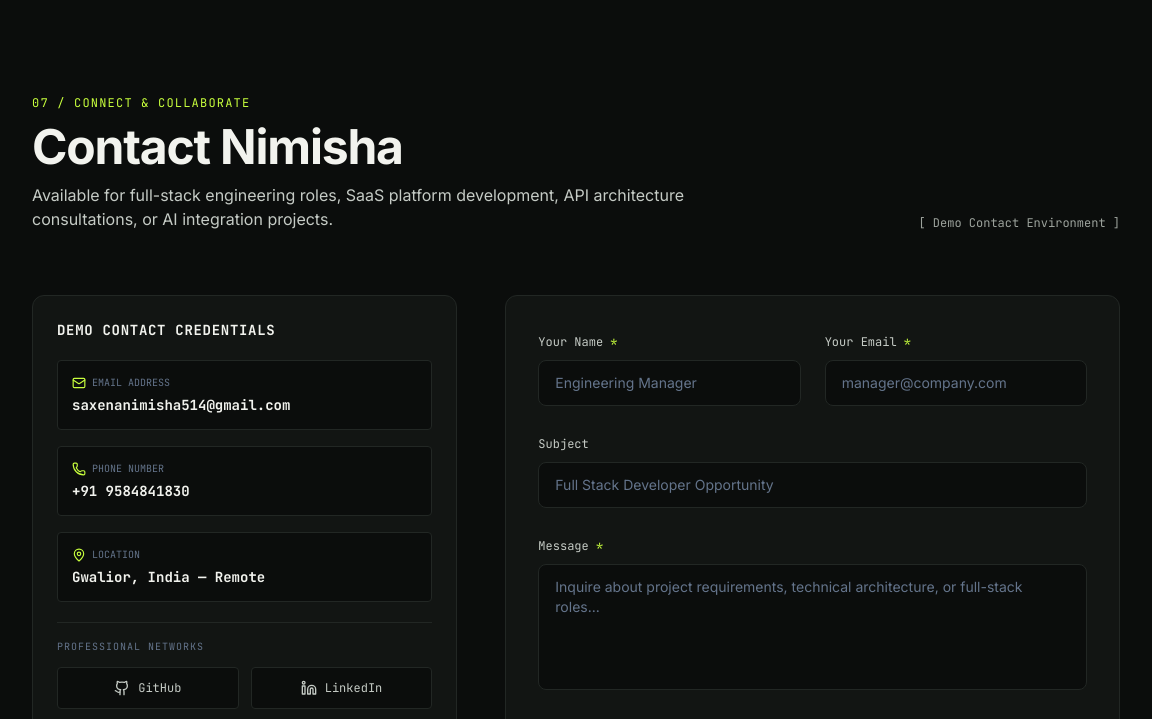
Test case: ContactSection Component › renders contact form and submits message state
The image size is (1152, 719).
Step 1. Type "Recruiter" into the field labelled "Your Name *" → (669, 383), box [538,360,801,406]
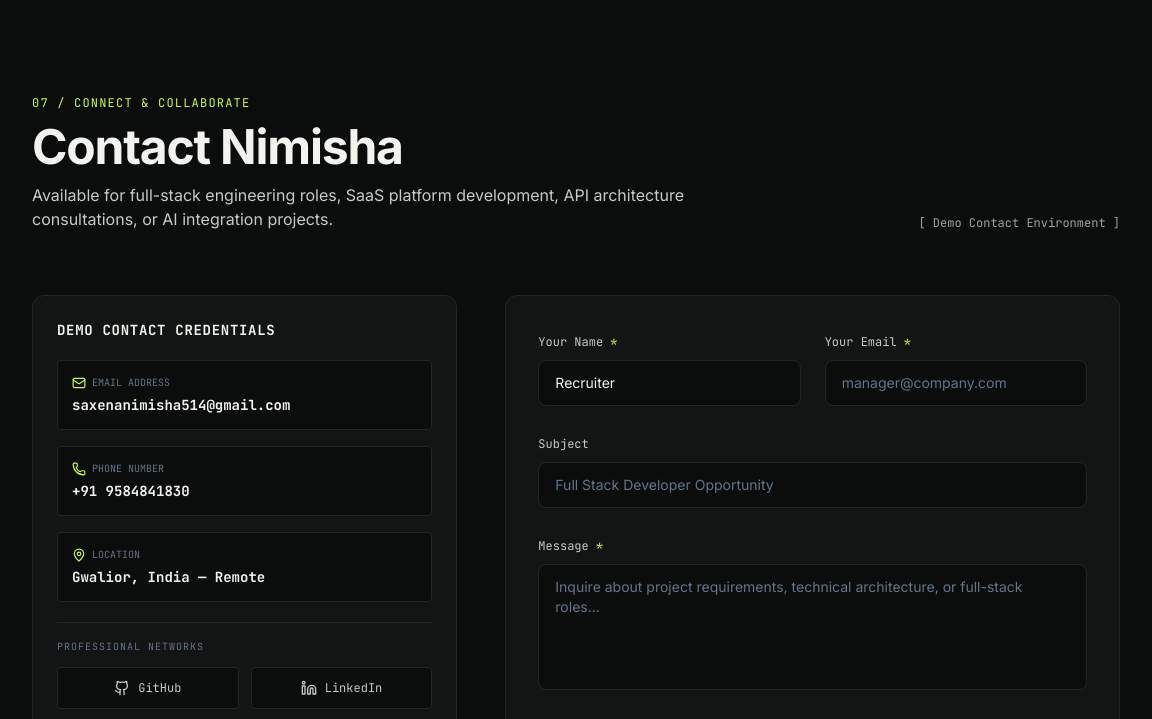
Step 2. Type "recruiter@example.com" into the field labelled "Your Email *" → (956, 383), box [825,360,1087,406]
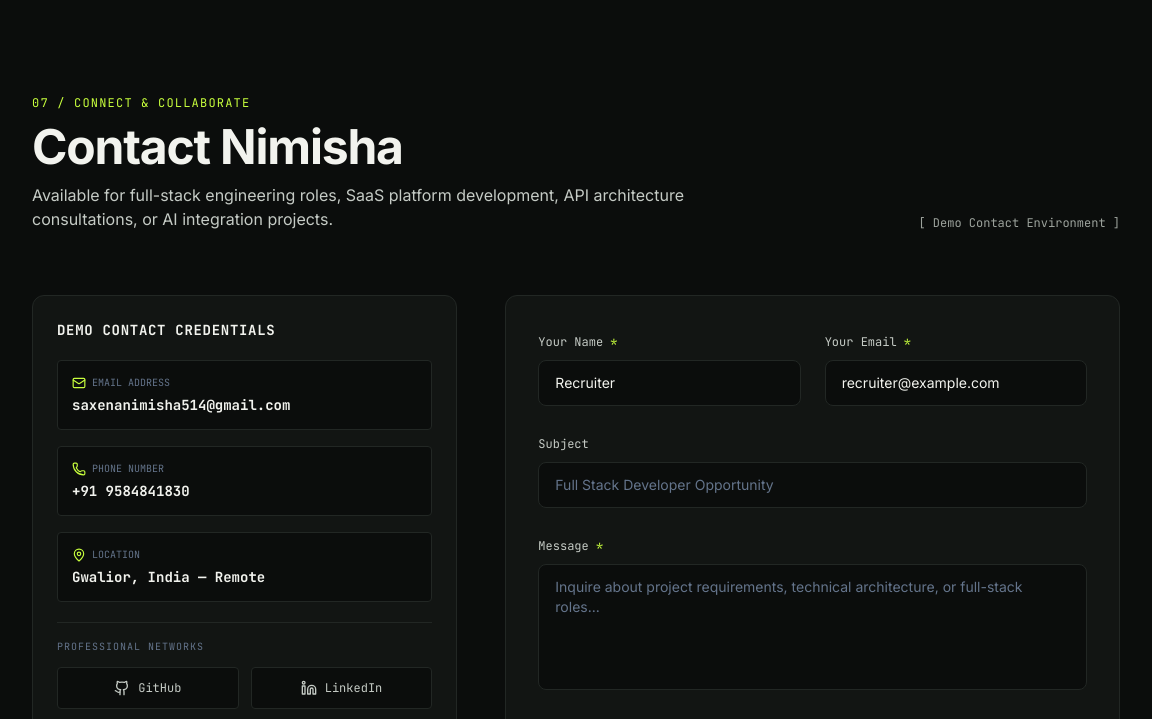
Step 3. Replace the text in the text box labelled "Message *" with "Let's discuss full stack roles!" → (813, 627), box [538,564,1087,690]
(page scrolled)
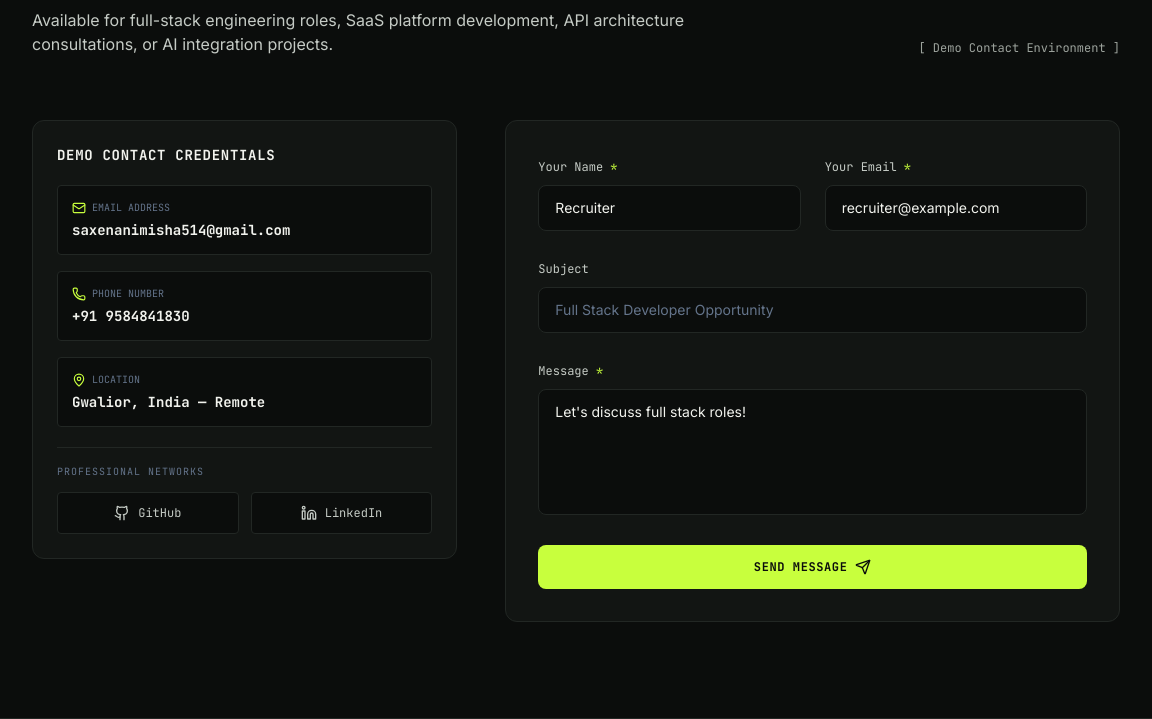
Step 4. Click the button "Send Message" → (813, 567), box [538,545,1087,589]
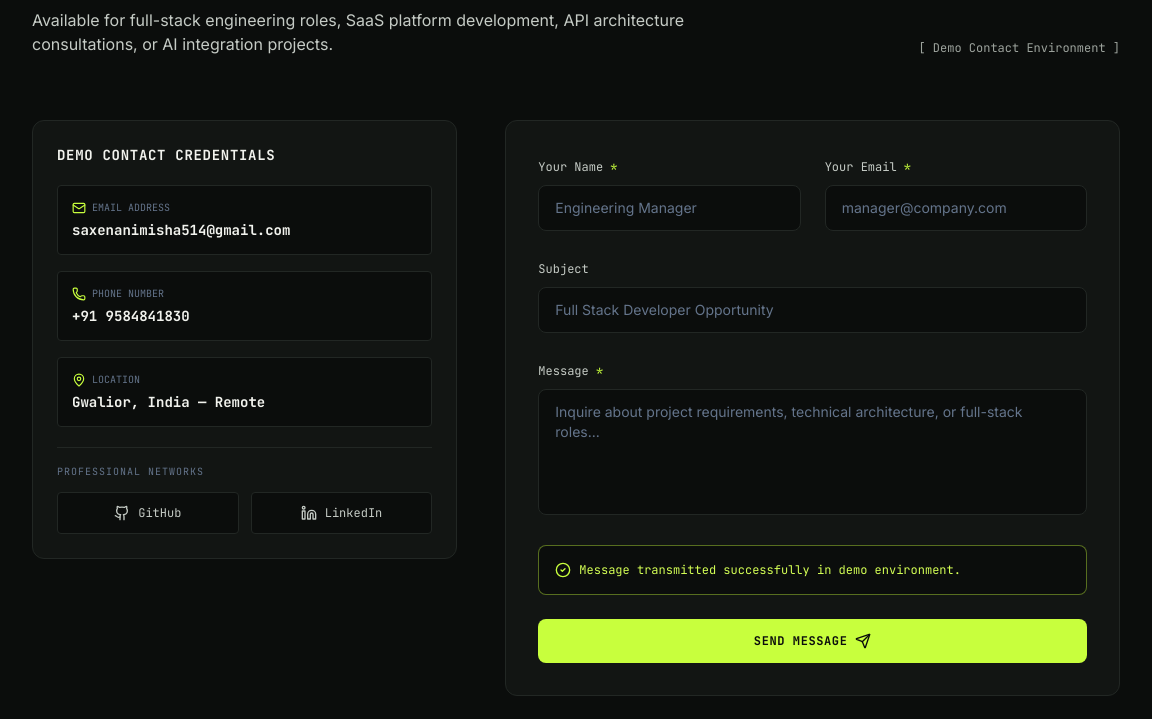
Now the text "Message transmitted successfully in demo environment." is shown, box [579,562,961,578]
